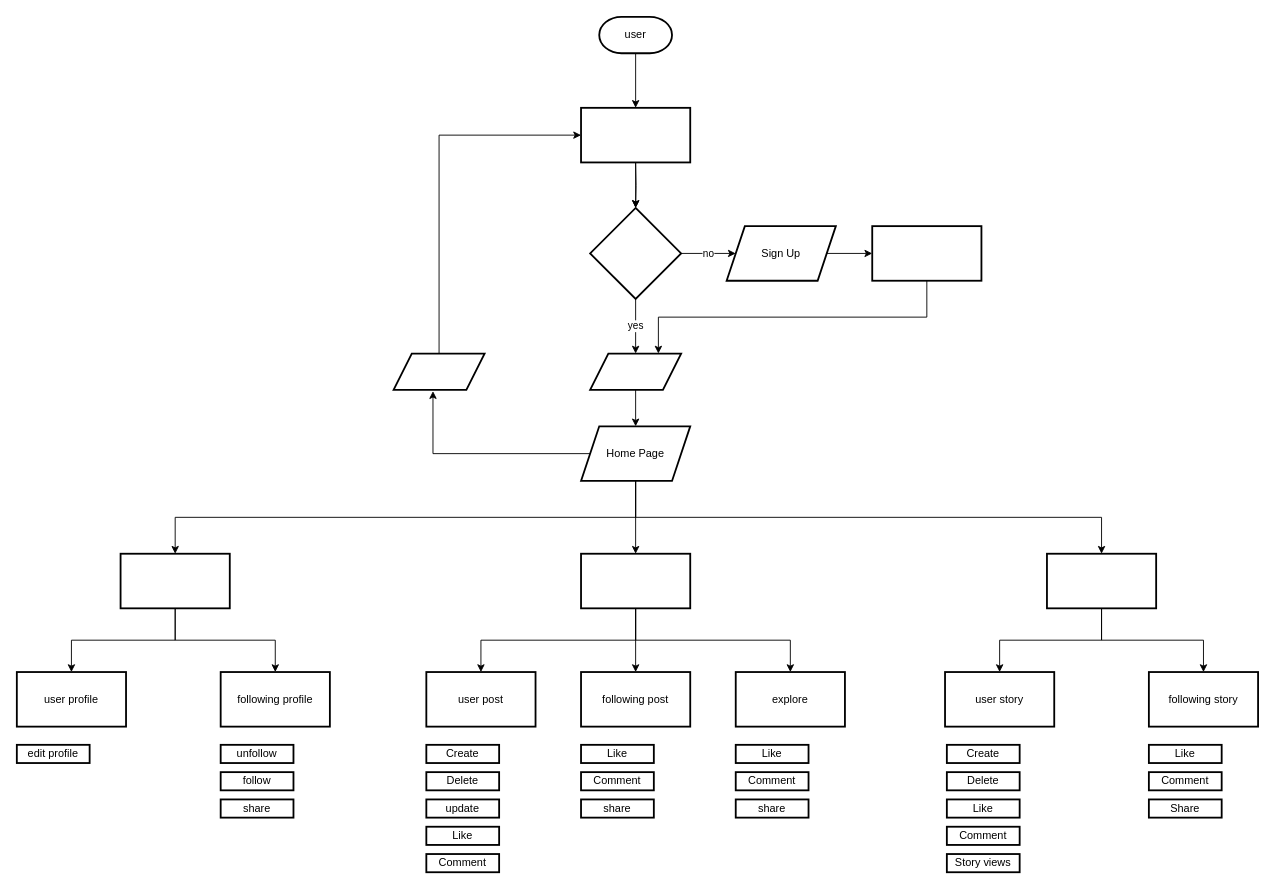
The diagram is 1274 pixels wide and 888 high, and some of its shapes have lost their labels. Here are the shapes that lost their labels. From the top down, the box of each, then its label:
(580, 106, 691, 163): Landing Page
(589, 207, 682, 299): is Registered?
(871, 225, 982, 281): Register Page
(392, 352, 485, 390): Log Out
(589, 352, 682, 390): Log In
(119, 552, 230, 609): profile
(580, 552, 691, 609): Post
(1046, 552, 1157, 609): Story
